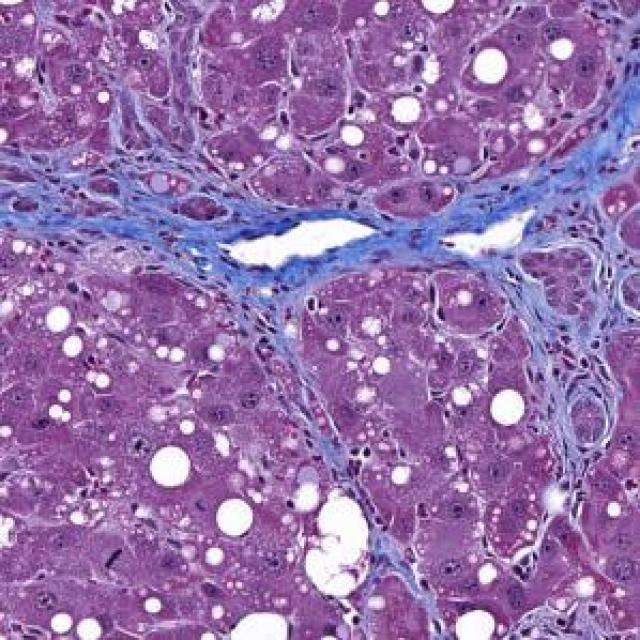fibrosis: (0, 116, 238, 276), (400, 161, 640, 274), (220, 187, 407, 310)
